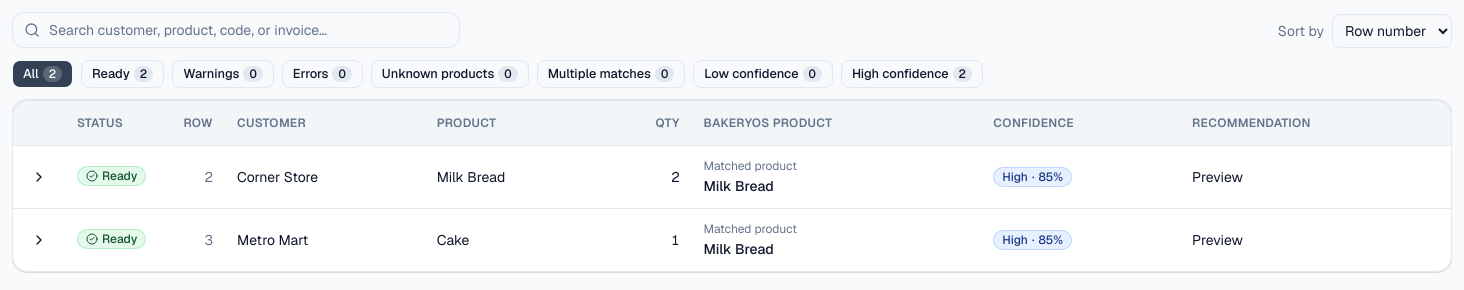
ImportReviewRowTable › searches by customer name
Type "metro" into the field named "Search rows".
click(236, 30); type("metro")  # box x1=12 y1=12 x2=460 y2=48
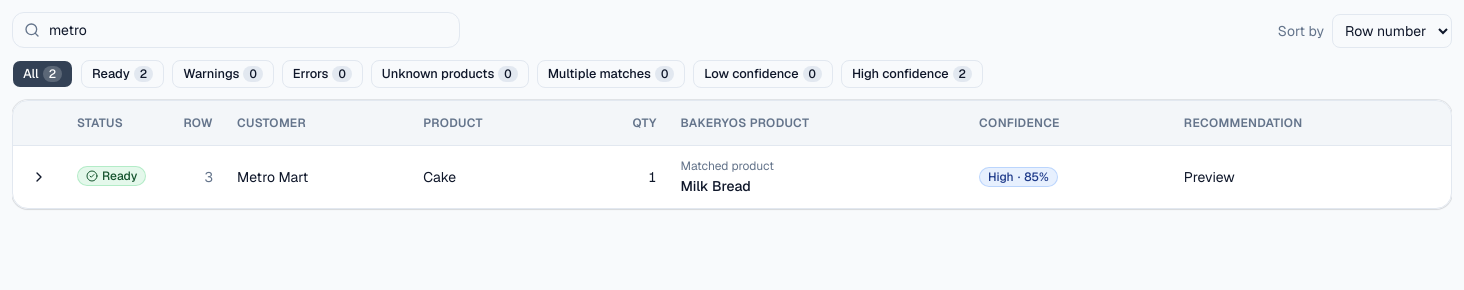
expect the text "Metro Mart" is shown: met, box x1=225 y1=145 x2=411 y2=208
expect the text "Corner Store" is gone: met
